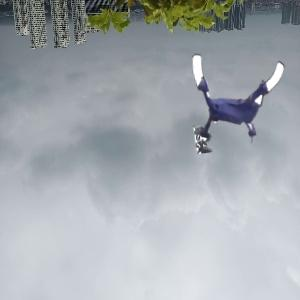drone: (190, 48, 291, 149)
